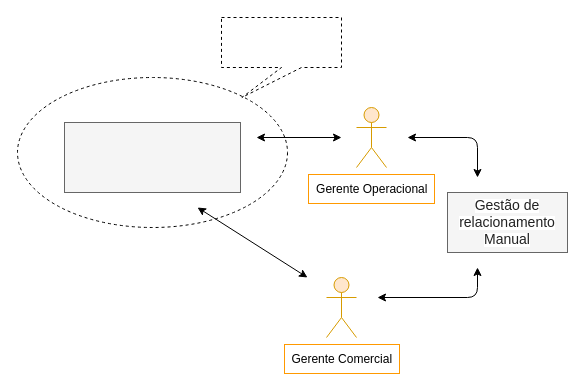
The diagram is 585 pixels wide and 392 high, and some of its shapes have lost their labels. Each missing label, with the centre of its shape:
"CRM - Customer Relationship Management" belongs at (x=152, y=157).
"Fronteira Sistêmica" belongs at (x=281, y=57).
